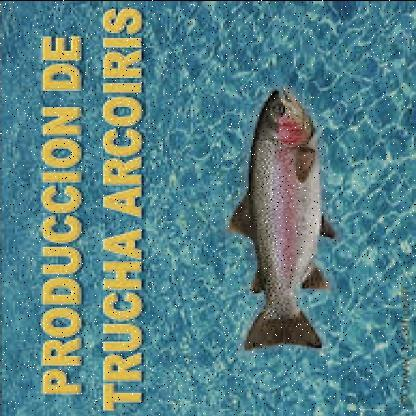fish: (223, 86, 339, 353)
